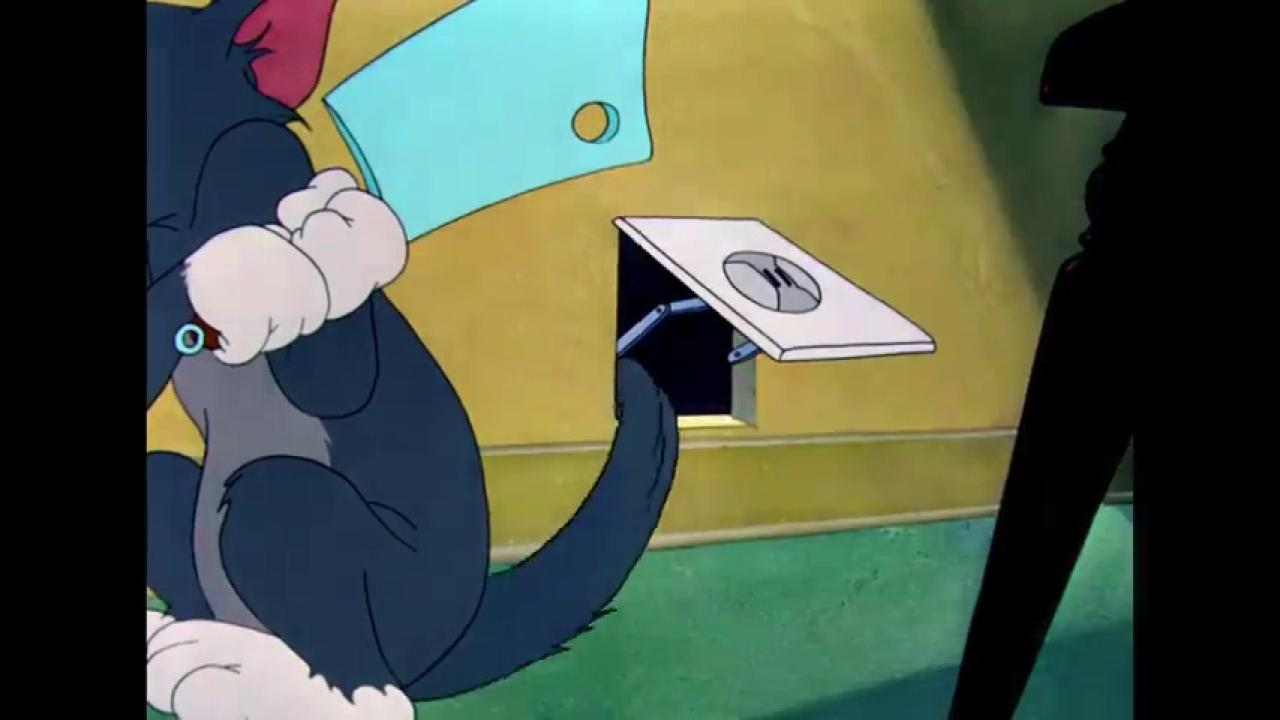Tom: (147, 0, 680, 720)
